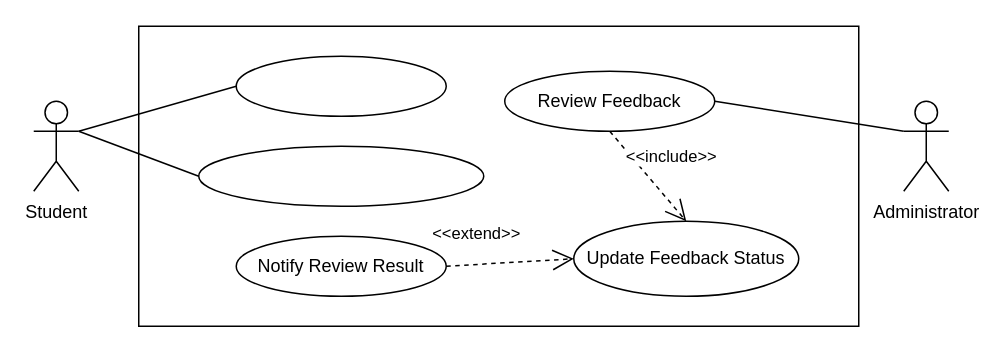
This 1005x353 diagram has some shape labels left out. Here are the shapes that lost their labels. From the top down, the centre of each, then its label:
At pixel 340 85: "Submit Feedback".
At pixel 340 175: "Receive Feedback Notification".
